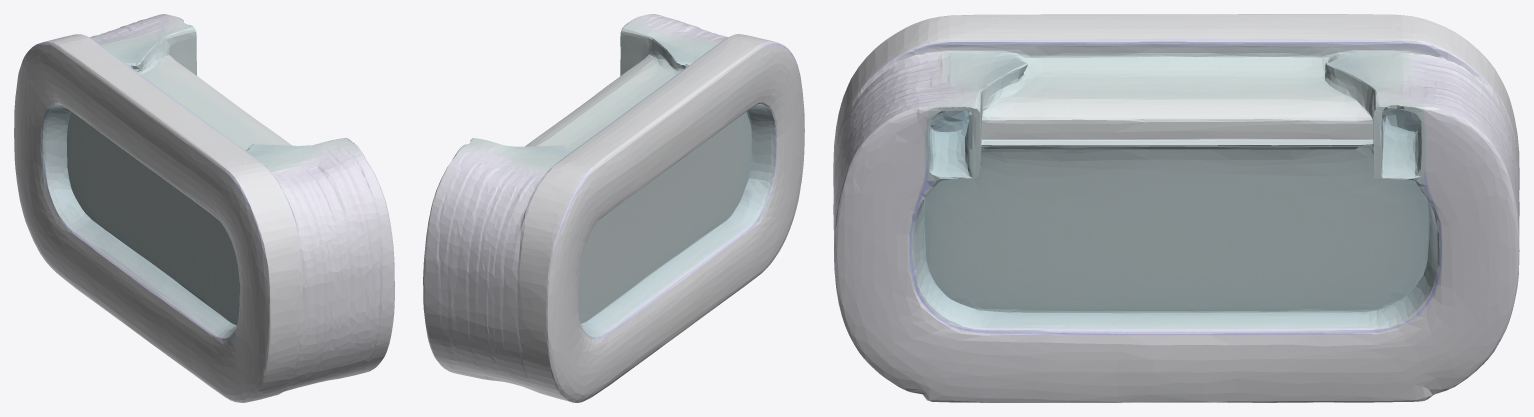
File: counterrobot.glb
The picture shows the model from 3 angles, left to right: view 1: azimuth 30°, elevation 25°; view 2: azimuth 150°, elevation 25°; view 3: azimuth 270°, elevation 25°; orthographic projection. The views are drawn at different scales.
Visible parts, largest first — view 1: world; view 2: world; view 3: world.
Part boxes in pixels (x1,y1,x2,y2): world: [14, 14, 394, 402]; world: [423, 14, 804, 402]; world: [833, 14, 1519, 402].
Bounding box in the file's own units: 0.3082 × 0.4972 × 0.9997.
Materials: 1 (1 with a texture image).
